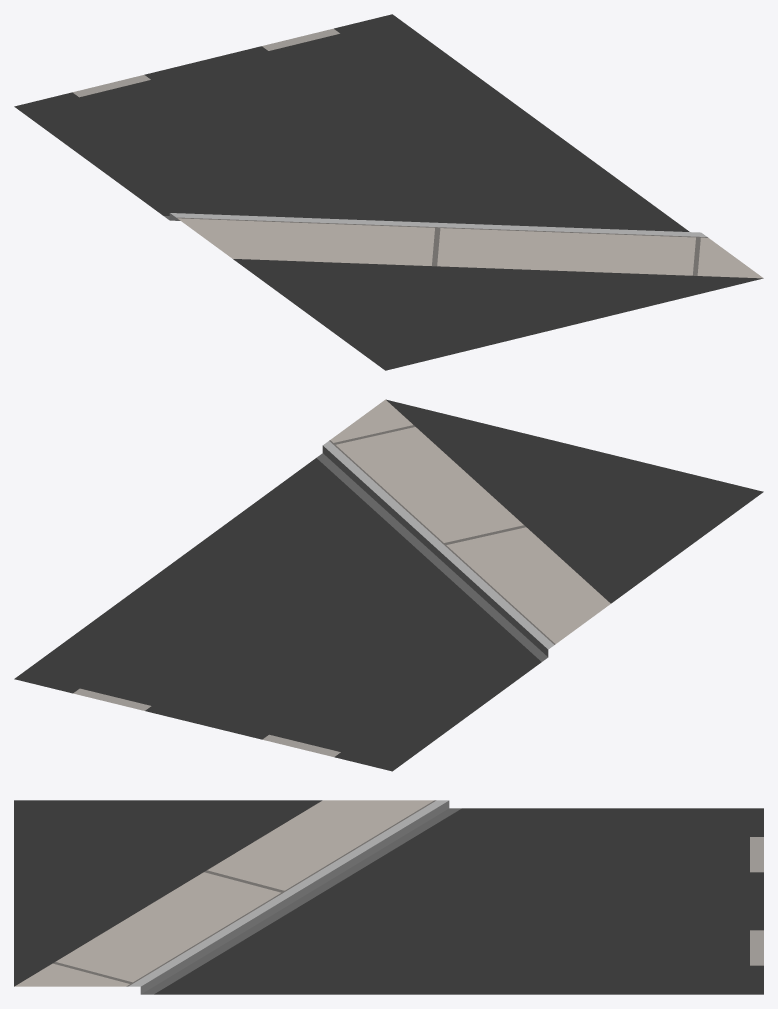
Rendered from SA_Env_Road_LaneTransition_Right01.fbx.
3 renders of one model, top to bottom at view 1: azimuth 30°, elevation 25°; view 2: azimuth 150°, elevation 25°; view 3: azimuth 270°, elevation 25°, orthographic.
Visible parts, largest first — view 1: SA_Env_Road_LaneTransition_Right01; view 2: SA_Env_Road_LaneTransition_Right01; view 3: SA_Env_Road_LaneTransition_Right01.
Boxes of the visible parts, bbox=[...] form: SA_Env_Road_LaneTransition_Right01: bbox=[14, 14, 763, 370]; SA_Env_Road_LaneTransition_Right01: bbox=[14, 399, 763, 771]; SA_Env_Road_LaneTransition_Right01: bbox=[14, 800, 763, 994].
Size of the model in its own units: 10 by 0.1948 by 17.
1 material, 1 textured.
